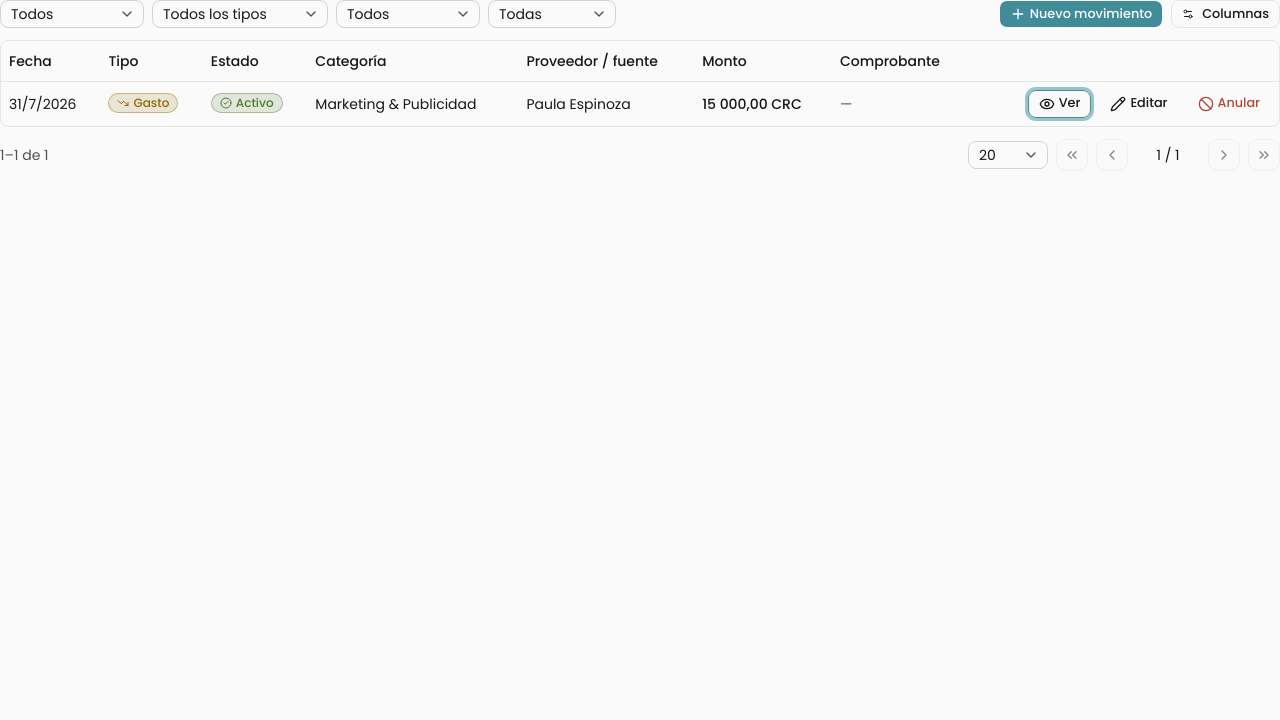
Test: FinanceEntriesTable — el click en la fila abre el detalle, no la edición › el detalle también se abre por teclado, desde el botón Ver de la fila
What coordinates should you click on to do the following:
click the button "Ver"
I would click on:
 (1060, 104)
Its box is [1028, 90, 1091, 118].
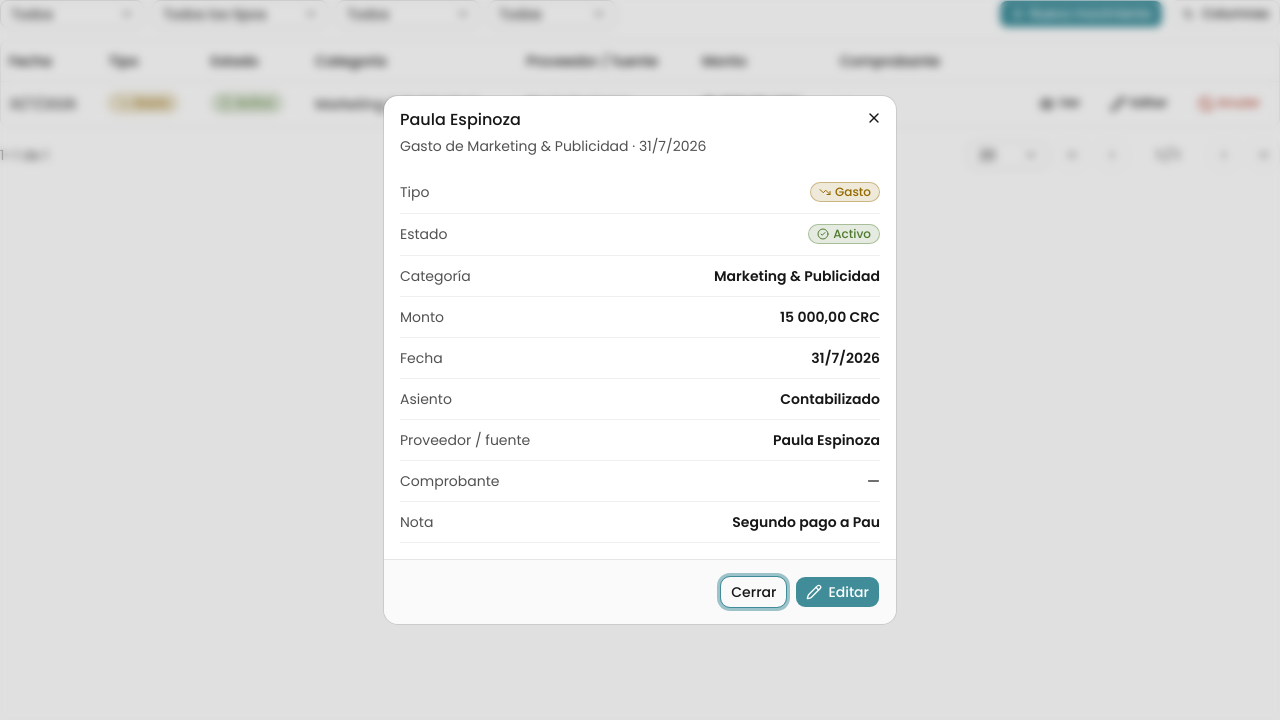
Now the dialog is shown, box [384, 96, 896, 624]
